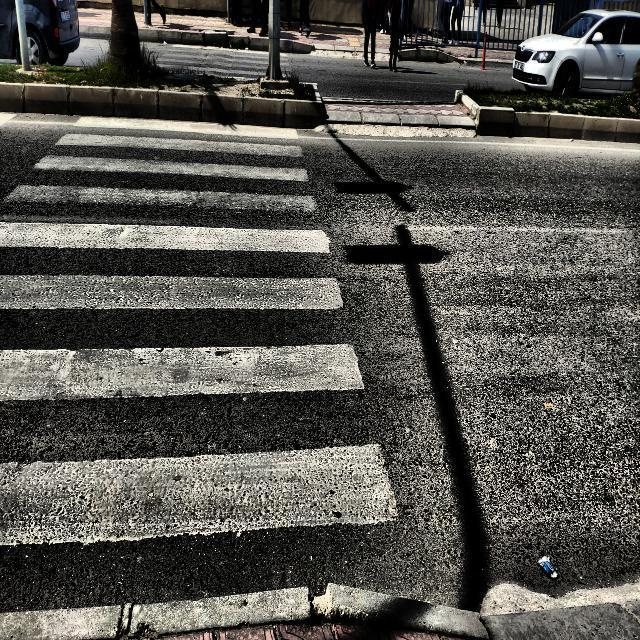faded_crosswalk: (0, 132, 401, 549)
